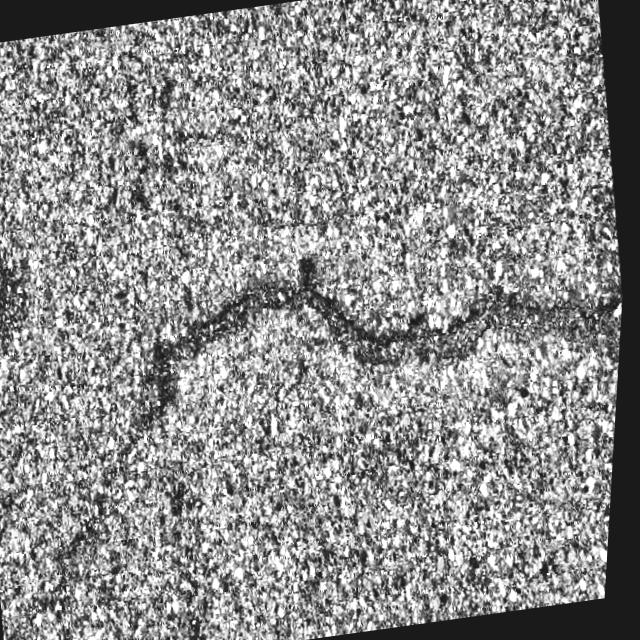cracks: (146, 282, 622, 400)
